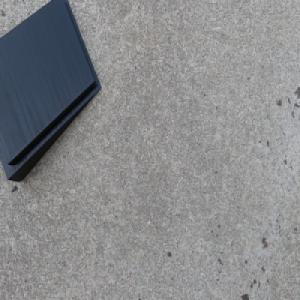PlasticPart: (0, 0, 102, 186)
